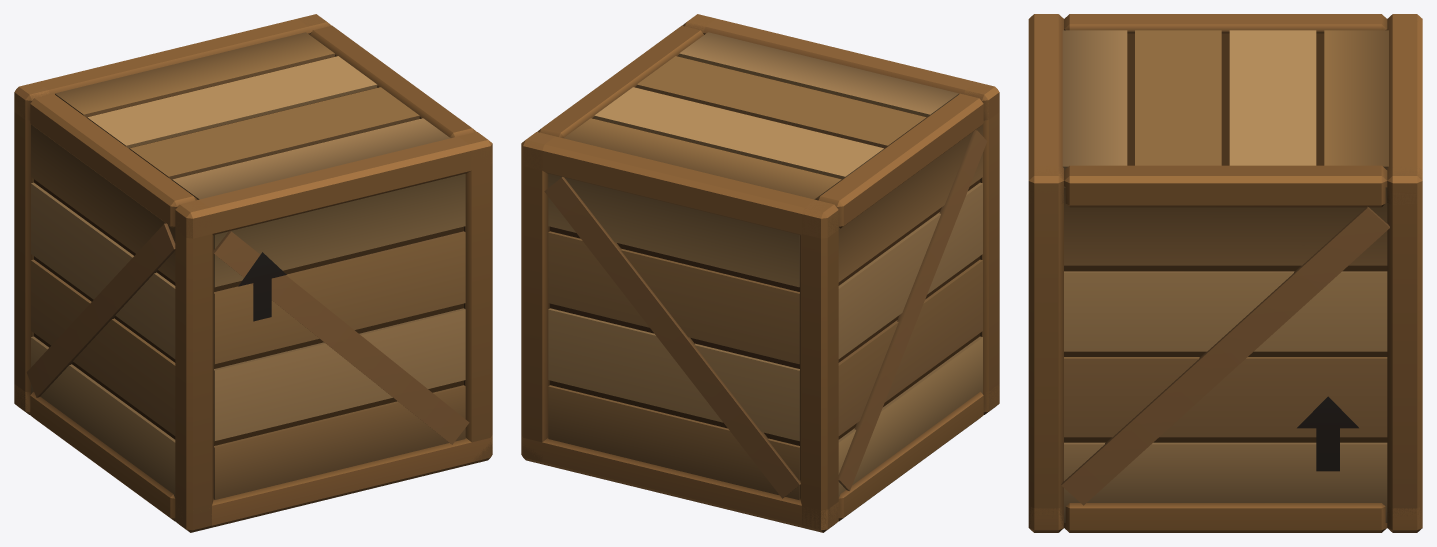
Rendered from crate_wood.glb.
The picture shows the model from 3 angles, left to right: view 1: azimuth 30°, elevation 25°; view 2: azimuth 150°, elevation 25°; view 3: azimuth 270°, elevation 25°; orthographic projection. The views are drawn at different scales.
Visible parts, largest first — view 1: Body; view 2: Body; view 3: Body.
Part boxes in pixels (box(x1,y1,x2,y2)): Body: box(14, 14, 492, 532); Body: box(521, 14, 999, 532); Body: box(1028, 14, 1422, 532).
Size of the model in its own units: 1 by 1 by 1.
